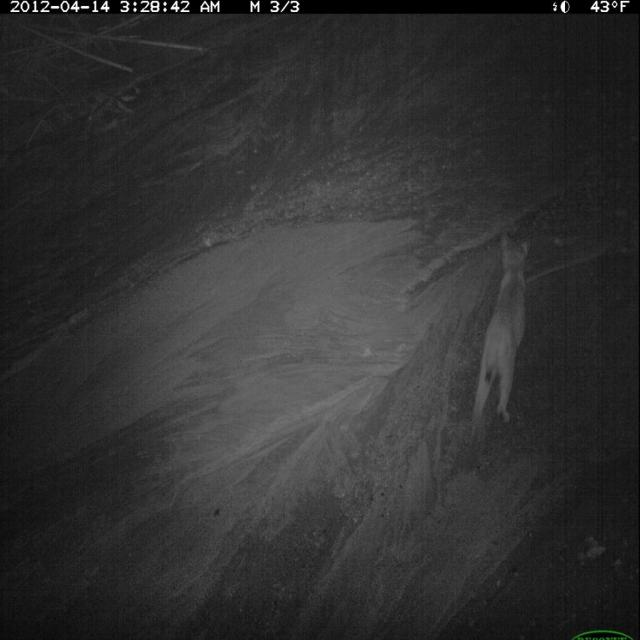bobcat: (463, 226, 538, 457)
